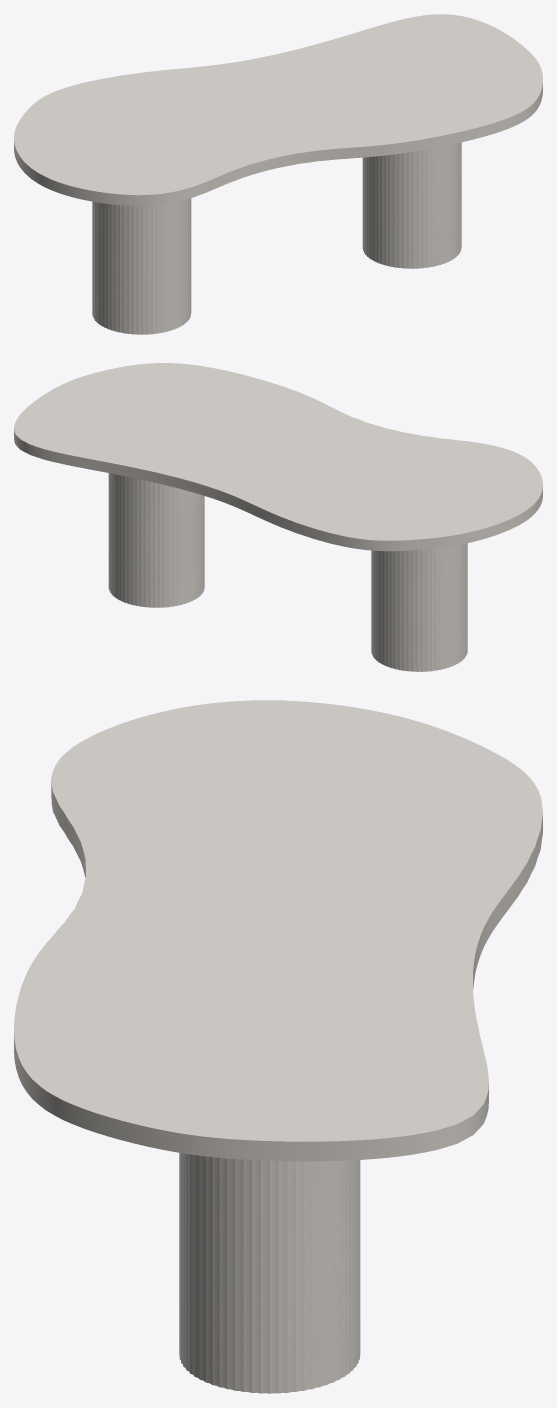
Rendered from pearlwhite_wave_standard_ripplesecond.glb.
The picture shows the model from 3 angles, top to bottom: view 1: azimuth 30°, elevation 25°; view 2: azimuth 150°, elevation 25°; view 3: azimuth 270°, elevation 25°; orthographic projection. The views are drawn at different scales.
Parts seen in each view (by area): view 1: standard_wave, ripplesecond; view 2: standard_wave, ripplesecond; view 3: standard_wave, ripplesecond.
Part boxes in pixels (box(x1,y1,x2,y2)): standard_wave: box(14, 14, 542, 205); ripplesecond: box(92, 142, 461, 334); standard_wave: box(14, 363, 542, 551); ripplesecond: box(108, 473, 467, 671); standard_wave: box(14, 700, 542, 1161); ripplesecond: box(179, 1153, 360, 1393).
Size of the model in its own units: 7.5 by 2.5 by 3.8.
Materials: 1 (1 with a texture image).
